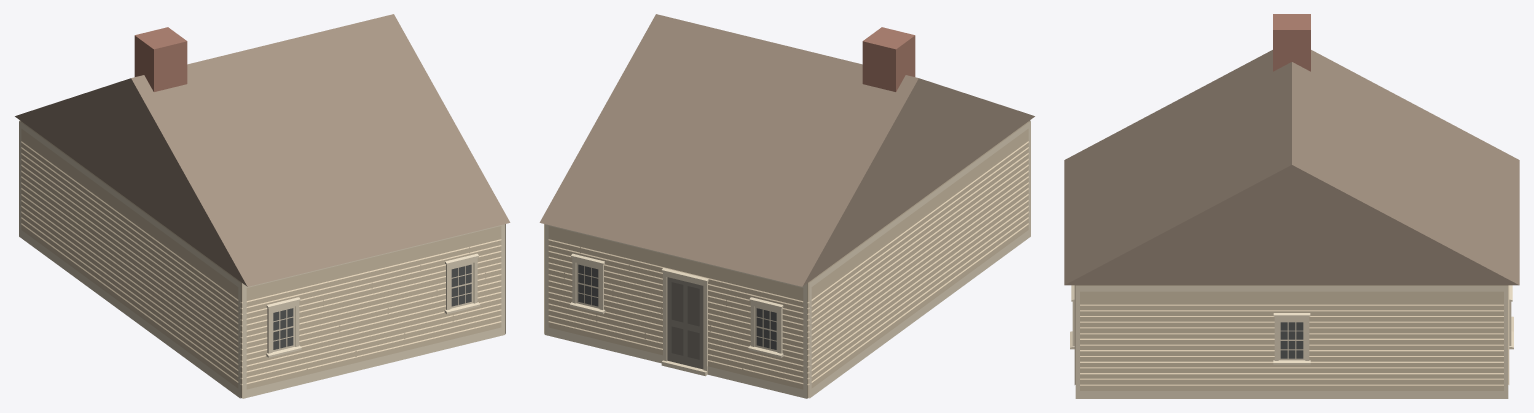
Rendered from recon_1835_south_d5_023__inferred_1835.glb.
3 renders of one model, left to right at view 1: azimuth 30°, elevation 25°; view 2: azimuth 150°, elevation 25°; view 3: azimuth 270°, elevation 25°, orthographic. The views are drawn at different scales.
Parts seen in each view (by area): view 1: recon_1835_south_d5_023__inferred_1835; view 2: recon_1835_south_d5_023__inferred_1835; view 3: recon_1835_south_d5_023__inferred_1835.
Boxes of the visible parts, x1,y1,x2,y2 form: recon_1835_south_d5_023__inferred_1835: [15, 14, 510, 398]; recon_1835_south_d5_023__inferred_1835: [539, 14, 1034, 398]; recon_1835_south_d5_023__inferred_1835: [1064, 14, 1519, 398].
Bounding box in the file's own units: 6.74 × 6.51 × 10.12.
